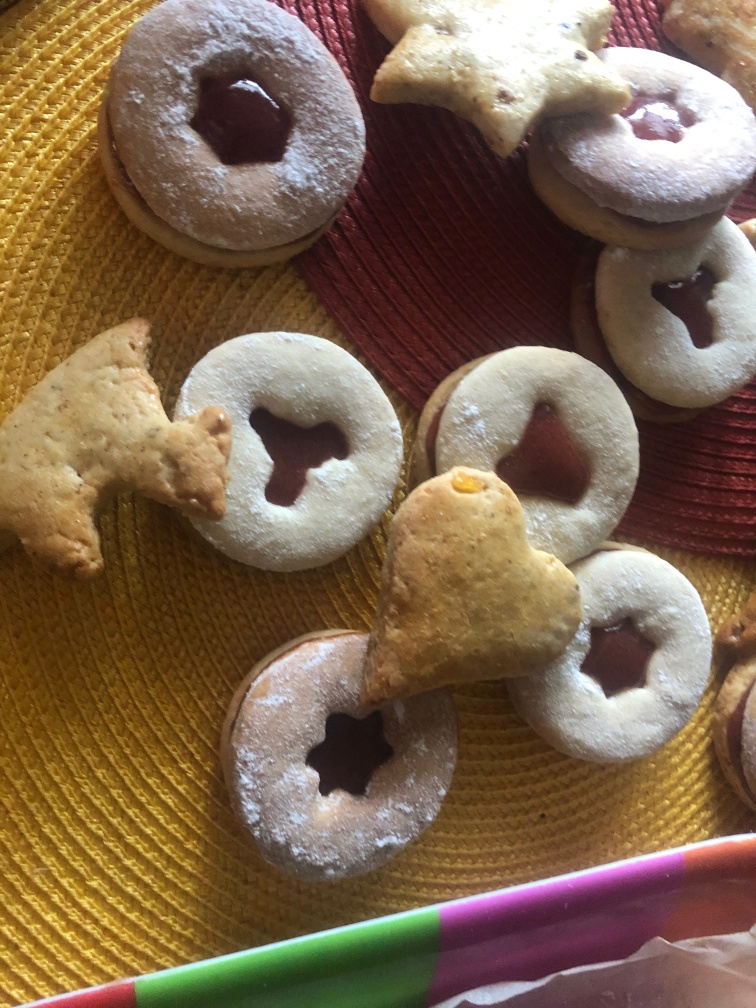christmas shortbread with jam: (105, 1, 363, 265), (182, 329, 400, 578), (234, 629, 452, 875), (184, 333, 401, 569), (423, 344, 638, 562), (543, 47, 756, 242), (544, 546, 714, 771), (598, 229, 756, 412)
heart: (362, 466, 579, 706)
lamb: (2, 318, 234, 595)
star: (377, 1, 639, 151)
